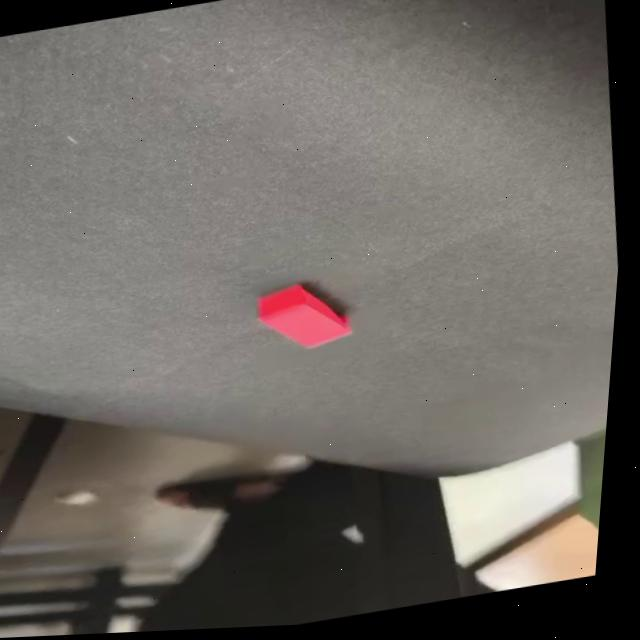red block: (248, 274, 358, 358)
